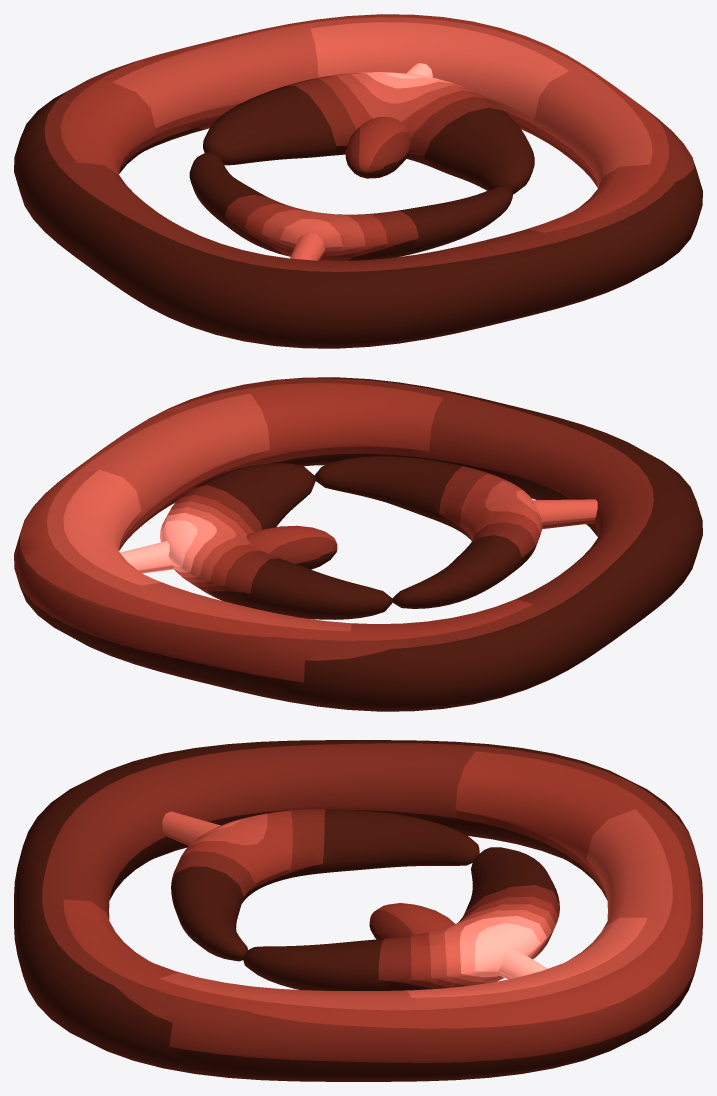
Rendered from beetle_ring_228.glb.
3 views of the same model, one above another, from view 1: azimuth 30°, elevation 25°; view 2: azimuth 150°, elevation 25°; view 3: azimuth 270°, elevation 25° (orthographic). The views are drawn at different scales.
Visible parts, largest first — view 1: beetle_ring_228; view 2: beetle_ring_228; view 3: beetle_ring_228.
Part boxes in pixels (x1,y1,x2,y2): beetle_ring_228: (14, 14, 702, 348); beetle_ring_228: (14, 377, 702, 711); beetle_ring_228: (14, 740, 702, 1081).
Size of the model in its own units: 8.12 by 1 by 8.12.
